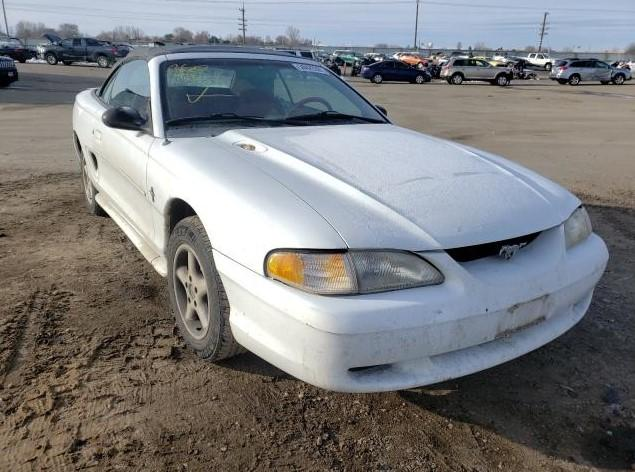Back-wheel: (79, 151, 99, 213)
Back-window: (100, 65, 124, 105)
Fender: (146, 137, 348, 276), (447, 141, 582, 206)
Front-bumper: (212, 221, 609, 393)
Front-door: (86, 60, 155, 244)
Front-wheel: (166, 215, 248, 362)
Front-window: (107, 60, 152, 122)
Grille: (444, 231, 542, 265)
Headlight: (263, 248, 445, 297), (564, 205, 592, 252)
Hood: (204, 124, 578, 251)
Mirror: (102, 107, 153, 137)
Quarter-panel: (71, 88, 107, 192)
Rocker-panel: (95, 192, 167, 277)
Roof: (122, 45, 320, 65)
Windshield: (159, 59, 391, 138)
